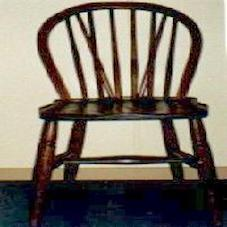chair: (18, 4, 221, 214)
